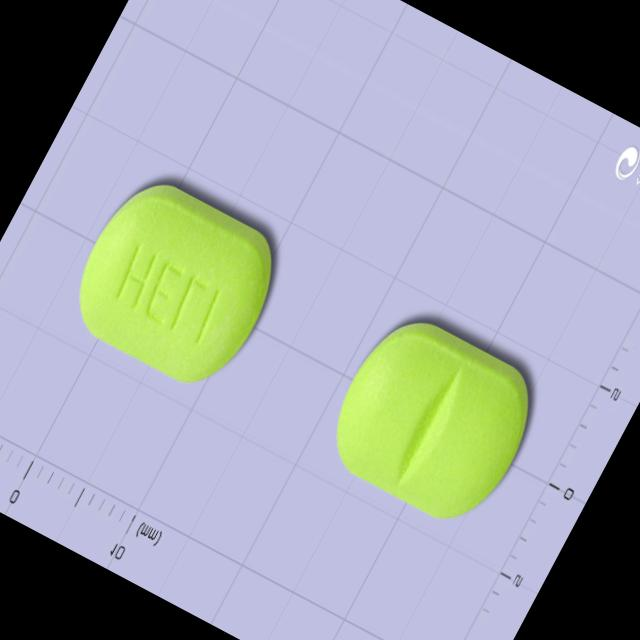Ciprofloxacin Hcl Tab- Arlico: (55, 162, 298, 404), (314, 302, 554, 538)
